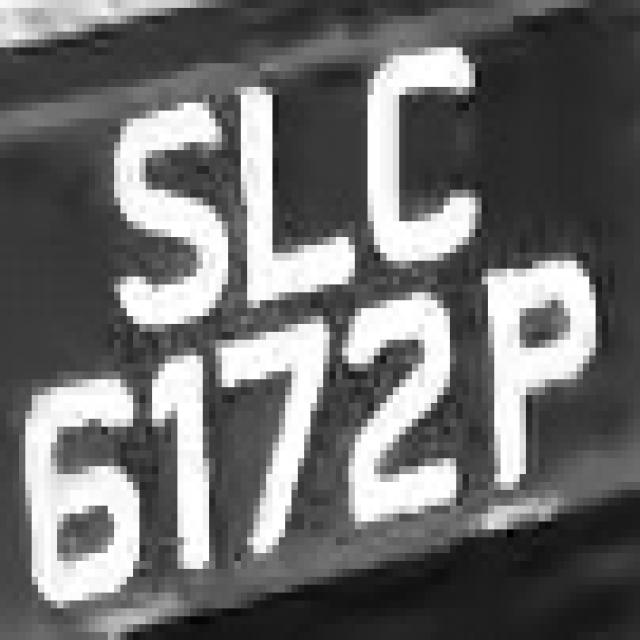1: (133, 332, 228, 608)
2: (336, 292, 462, 553)
6: (6, 364, 152, 624)
7: (196, 300, 336, 569)
C: (342, 23, 482, 276)
L: (222, 63, 355, 332)
P: (475, 253, 615, 513)
S: (95, 79, 228, 356)
